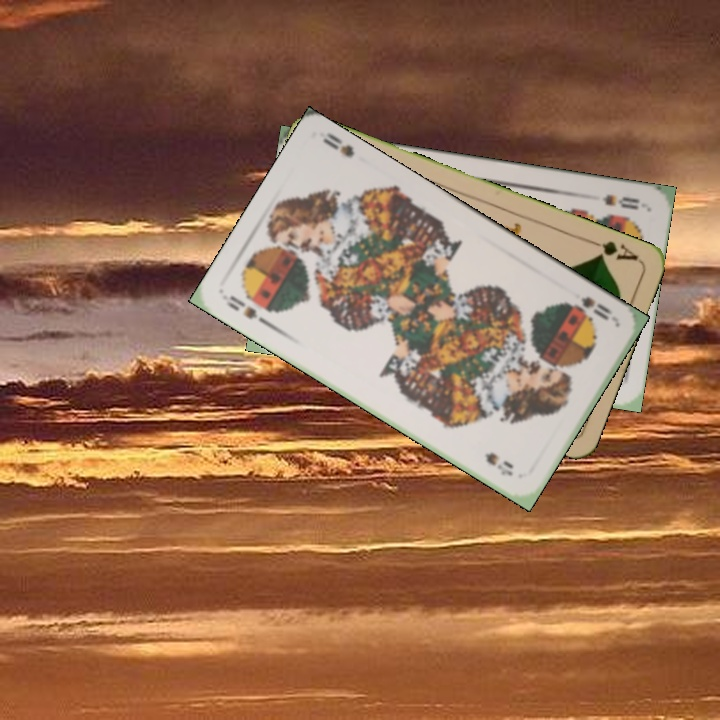GA: (584, 235, 641, 264)
S8: (599, 190, 642, 212)
SO: (222, 291, 273, 329), (561, 292, 615, 323)
